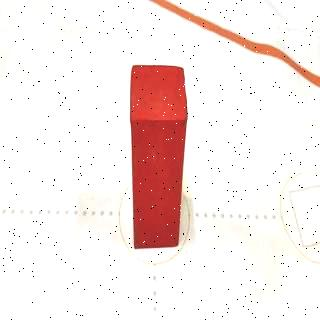redbox: (128, 62, 188, 248)
